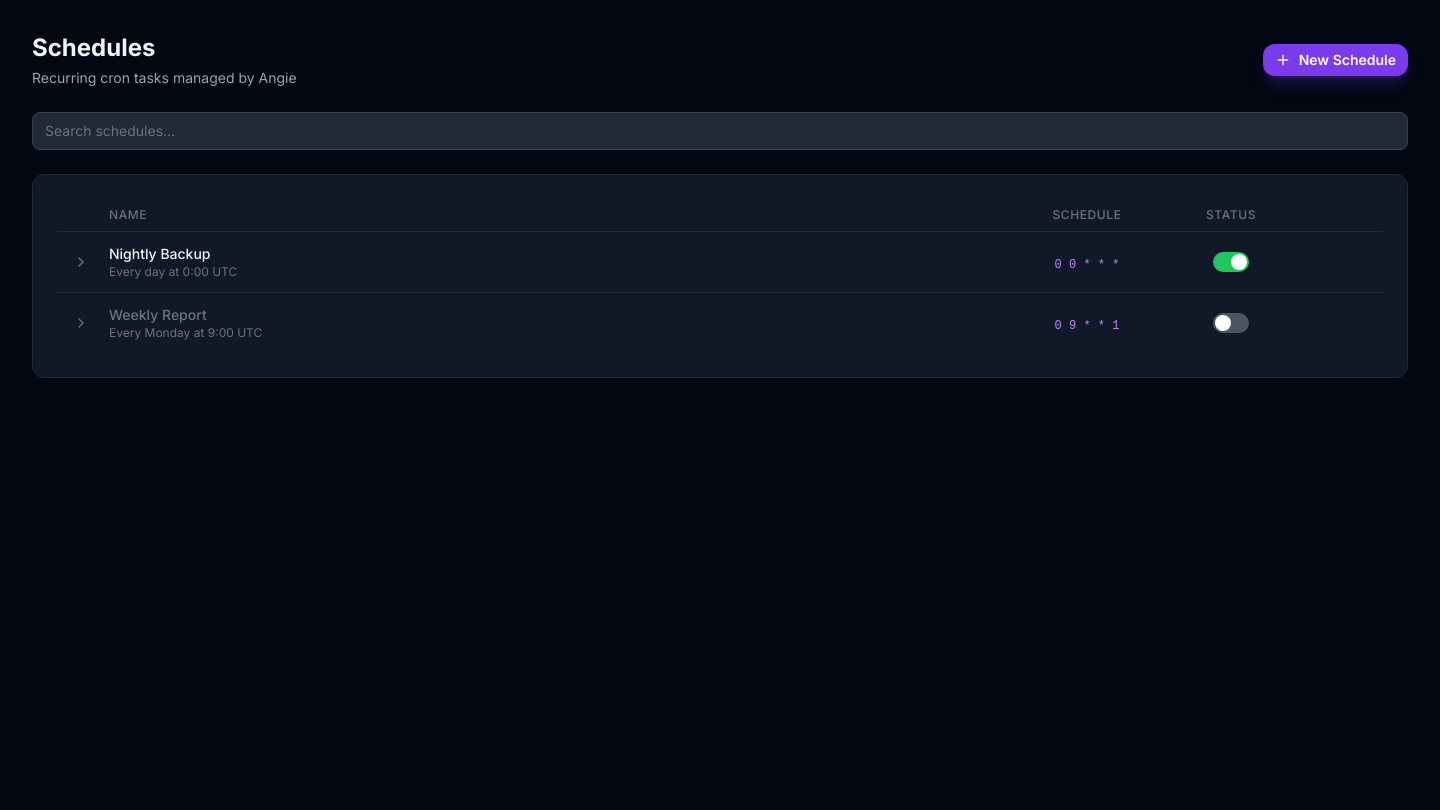
SchedulesPage › opens create form when clicking New Schedule
Expected: the text "Nightly Backup" is shown, [109,245,210,262]
Click the button "New Schedule": click(1335, 60) [1263,44,1408,76]
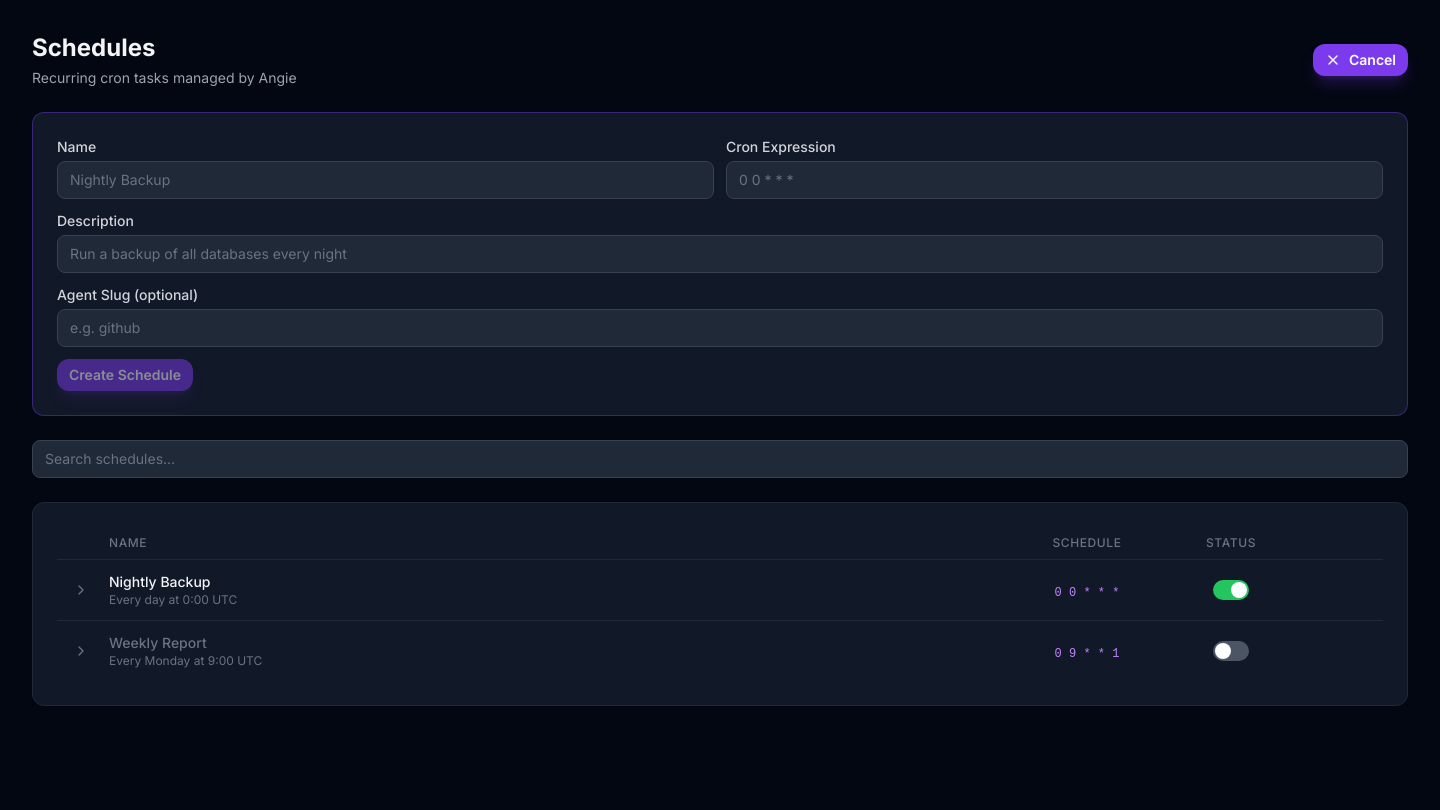
Expected: the button "Create Schedule" is shown, [57,359,193,391]
